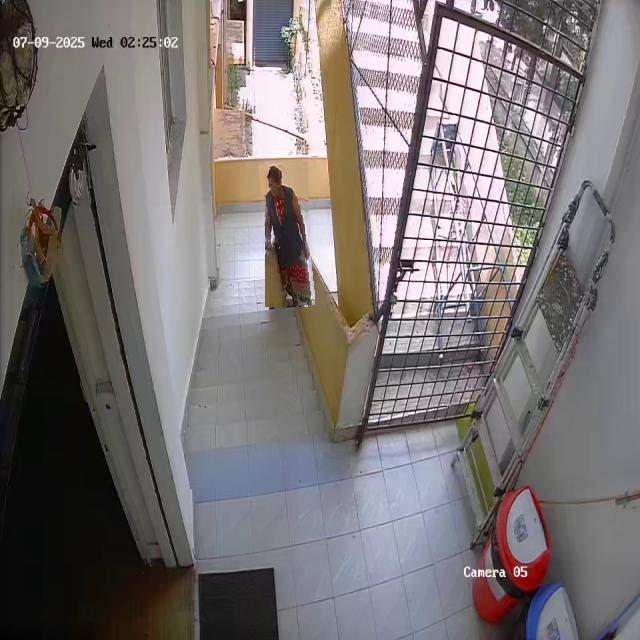person: (261, 161, 312, 308)
